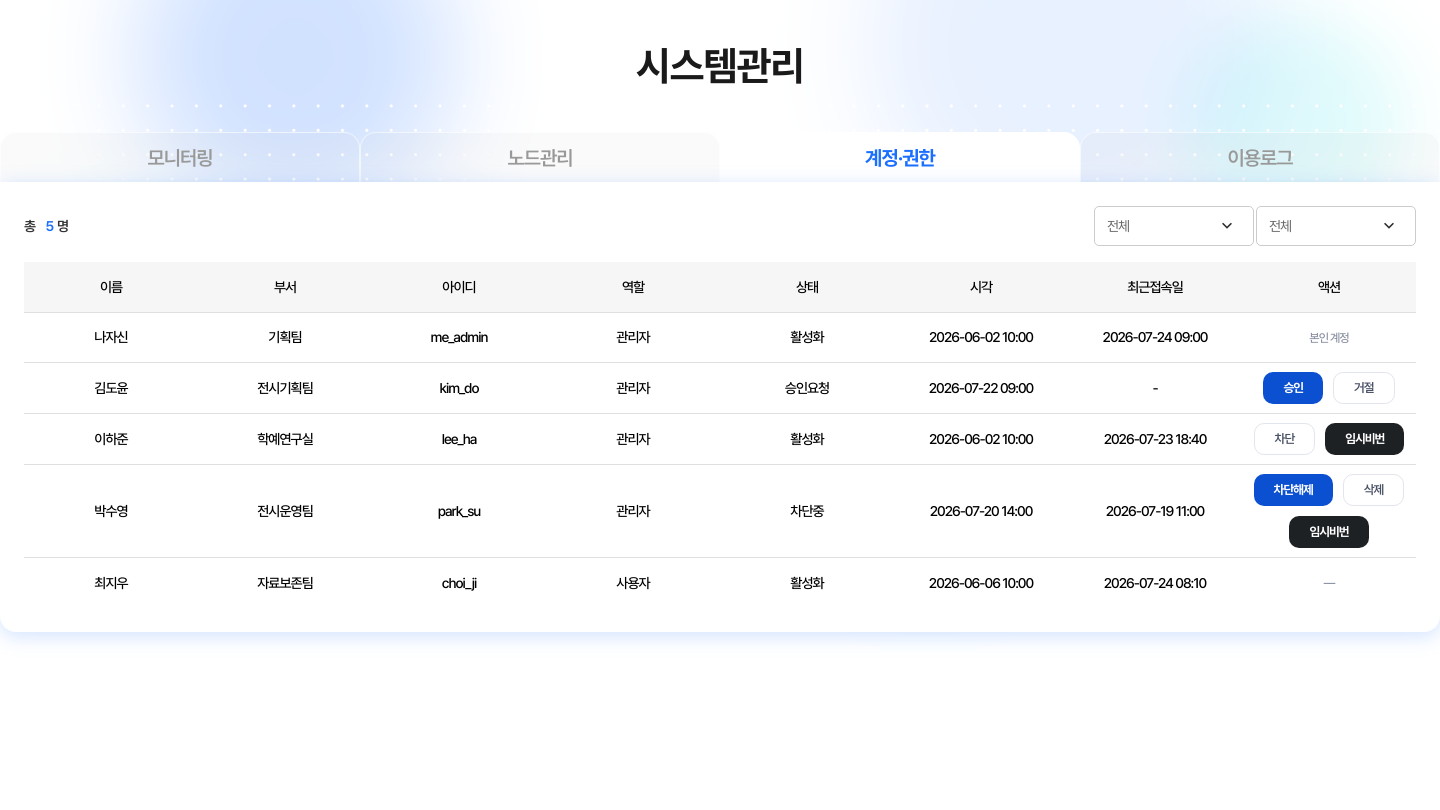
Test case: Accounts — 필터·행별 인접 액션·확인/임시비번 모달 › 요청 실패(비200)면 토스트만 뜨고 목록은 그대로다(단언 약화 금지 — 실패 시 상태 불변 확인)
The width and height of the screenshot is (1440, 810).
Check: the text "김도윤" is shown, box [24,362,198,414]
Step 1. Click the button "거절" → (1364, 388), box [1333,372,1395,404]
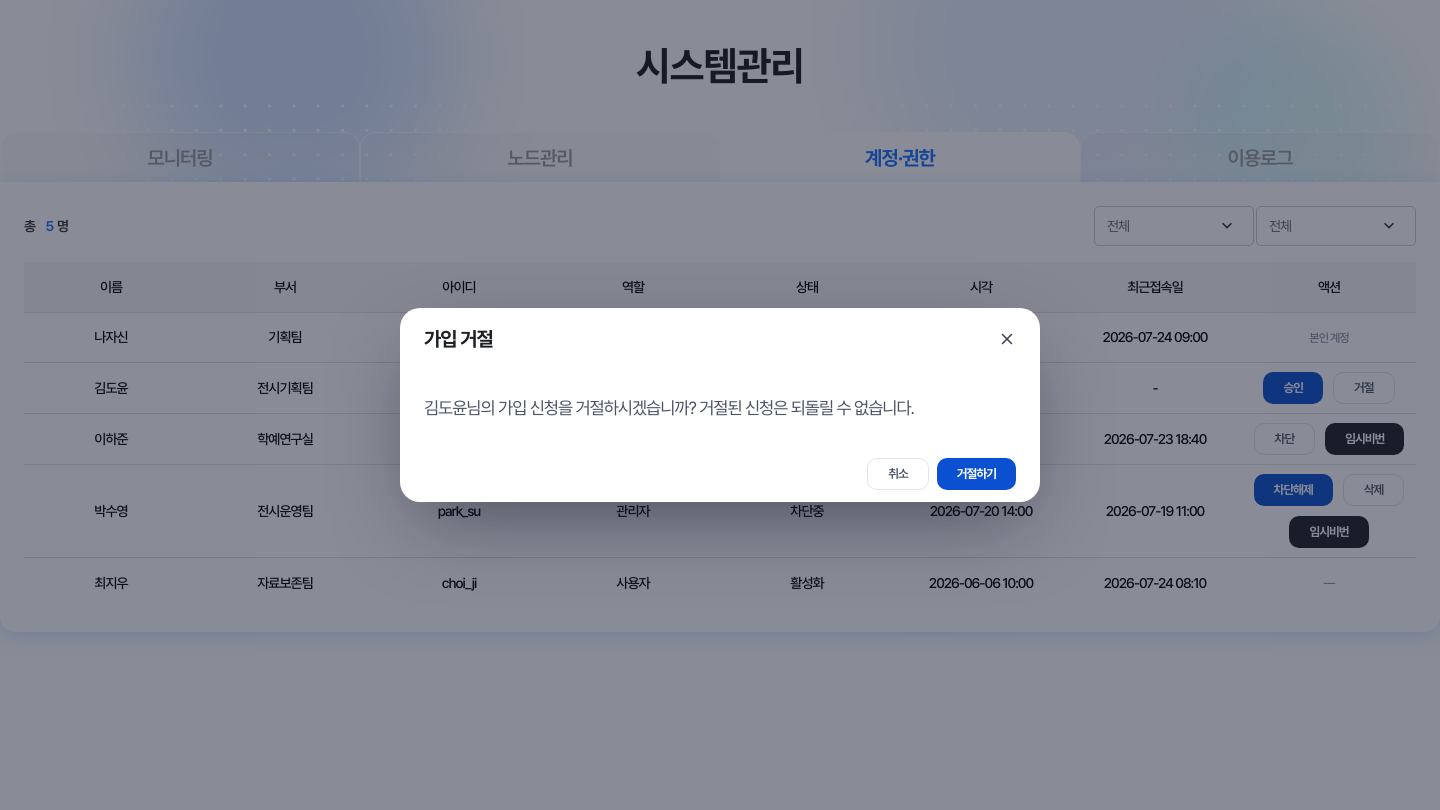
Step 2. Click the button "거절하기" → (976, 474), box [937,458,1016,490]
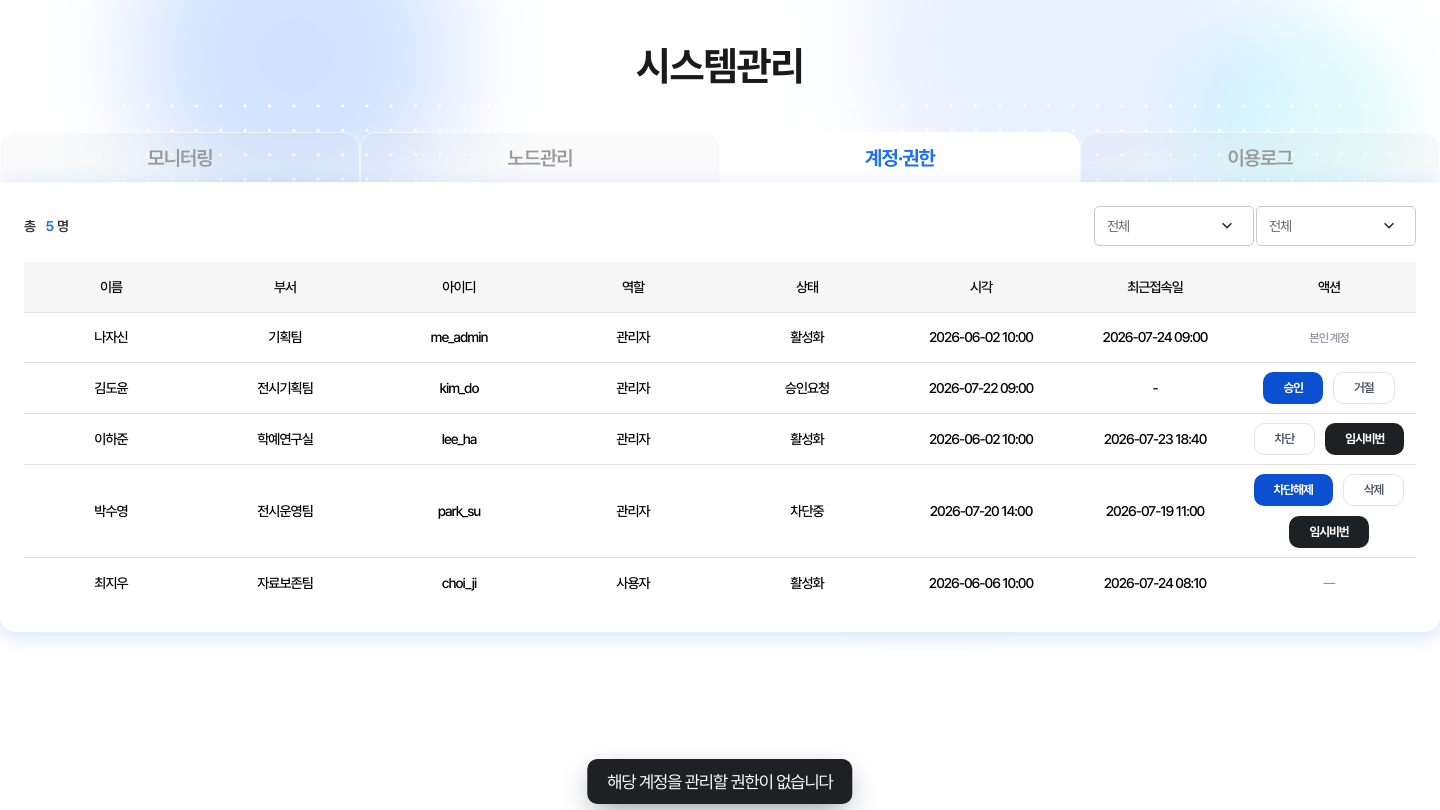
Check: the text "김도윤" is shown, box [24,362,198,414]
Check: the text "해당 계정을 관리할 권한이 없습니다" is shown, box [587,759,853,804]
